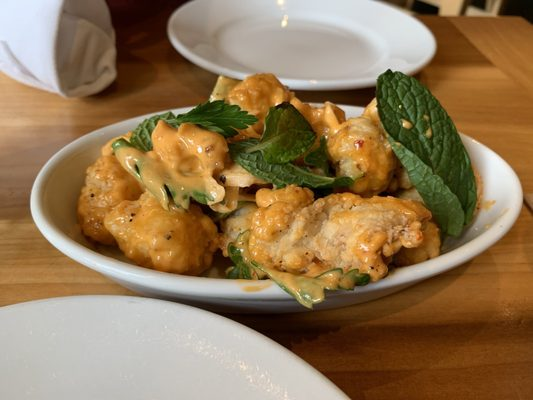pizza: (0, 0, 118, 99)
